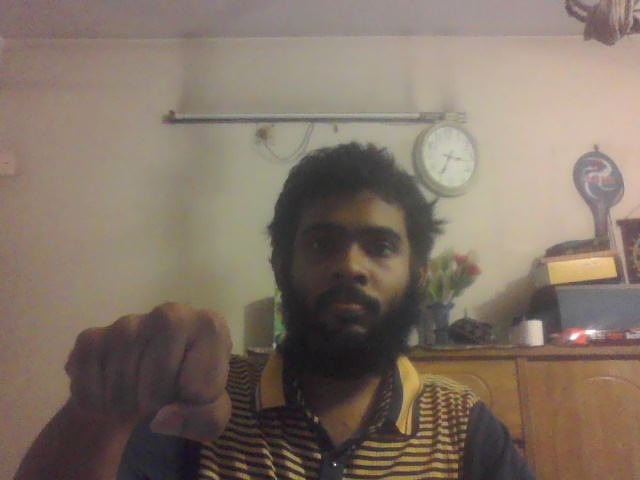Yes: (63, 302, 232, 439)
